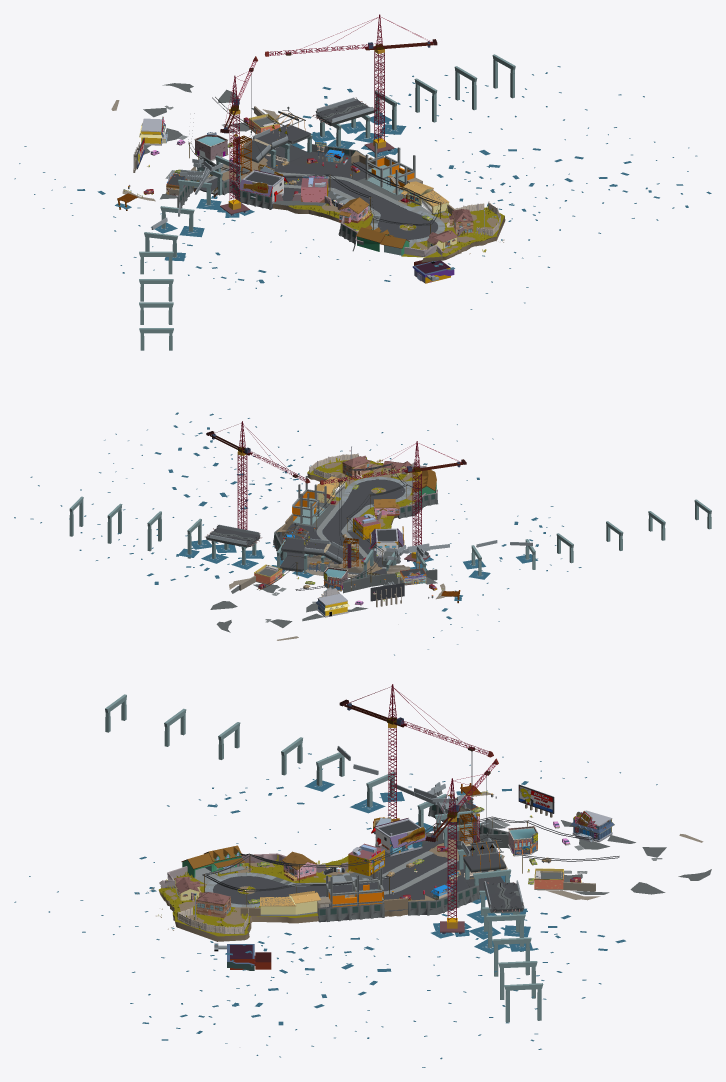
File: street.glb
3 views of the same model, one above another, from view 1: azimuth 30°, elevation 25°; view 2: azimuth 150°, elevation 25°; view 3: azimuth 270°, elevation 25° (orthographic). The views are drawn at different scales.
Visible parts, largest first — view 1: material-0_0; view 2: material-0_0; view 3: material-0_0.
Boxes of the visible parts, left/top/right/bottom form: material-0_0: left=14, top=14, right=711, bottom=350; material-0_0: left=14, top=412, right=711, bottom=655; material-0_0: left=14, top=684, right=711, bottom=1067.
Size of the model in its own units: 403 by 168 by 339.
Materials: 67 (66 with a texture image).
